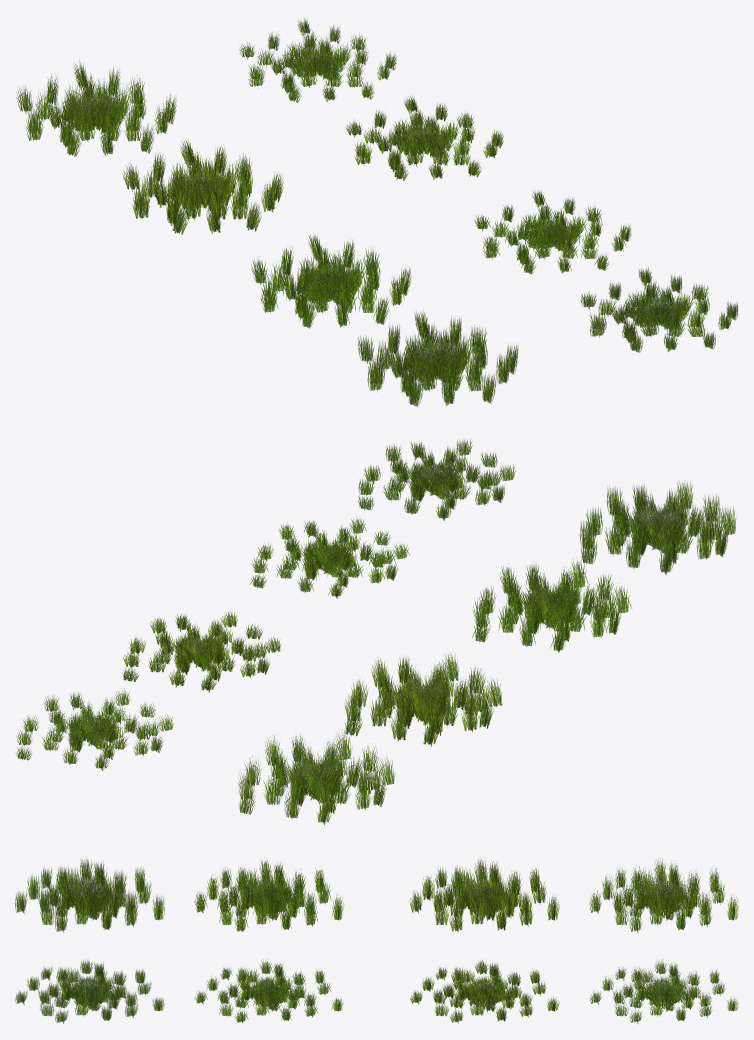
The model's file is grass_patches_02.glb.
The picture shows the model from 3 angles, top to bottom: view 1: azimuth 30°, elevation 25°; view 2: azimuth 150°, elevation 25°; view 3: azimuth 270°, elevation 25°; orthographic projection. The views are drawn at different scales.
Parts seen in each view (by area): view 1: U3DMesh.007_7, U3DMesh_0, U3DMesh.003_3, U3DMesh.004_4, U3DMesh.006_6, U3DMesh.001_1, U3DMesh.002_2, U3DMesh.005_5; view 2: U3DMesh.007_7, U3DMesh_0, U3DMesh.003_3, U3DMesh.004_4, U3DMesh.006_6, U3DMesh.001_1, U3DMesh.002_2, U3DMesh.005_5; view 3: U3DMesh.007_7, U3DMesh_0, U3DMesh.004_4, U3DMesh.003_3, U3DMesh.006_6, U3DMesh.001_1, U3DMesh.005_5, U3DMesh.002_2.
Part boxes in pixels (left/top/right/bottom): U3DMesh.007_7: left=358, top=310, right=518, bottom=406; U3DMesh_0: left=122, top=139, right=283, bottom=234; U3DMesh.003_3: left=16, top=61, right=176, bottom=156; U3DMesh.004_4: left=251, top=234, right=411, bottom=328; U3DMesh.006_6: left=580, top=267, right=738, bottom=352; U3DMesh.001_1: left=346, top=95, right=503, bottom=180; U3DMesh.002_2: left=239, top=18, right=396, bottom=102; U3DMesh.005_5: left=474, top=190, right=631, bottom=274; U3DMesh.007_7: left=579, top=481, right=736, bottom=574; U3DMesh_0: left=344, top=653, right=502, bottom=746; U3DMesh.003_3: left=238, top=731, right=395, bottom=825; U3DMesh.004_4: left=472, top=561, right=631, bottom=652; U3DMesh.006_6: left=358, top=439, right=515, bottom=520; U3DMesh.001_1: left=122, top=611, right=281, bottom=692; U3DMesh.002_2: left=16, top=689, right=173, bottom=771; U3DMesh.005_5: left=250, top=516, right=409, bottom=598; U3DMesh.007_7: left=14, top=859, right=164, bottom=932; U3DMesh_0: left=409, top=859, right=559, bottom=932; U3DMesh.004_4: left=194, top=859, right=344, bottom=931; U3DMesh.003_3: left=589, top=860, right=738, bottom=933; U3DMesh.006_6: left=15, top=960, right=164, bottom=1023; U3DMesh.001_1: left=410, top=960, right=559, bottom=1023; U3DMesh.005_5: left=195, top=961, right=343, bottom=1022; U3DMesh.002_2: left=589, top=959, right=738, bottom=1023.
Size of the model in its own units: 9.72 by 0.9425 by 20.23.
8 materials, 8 textured.
